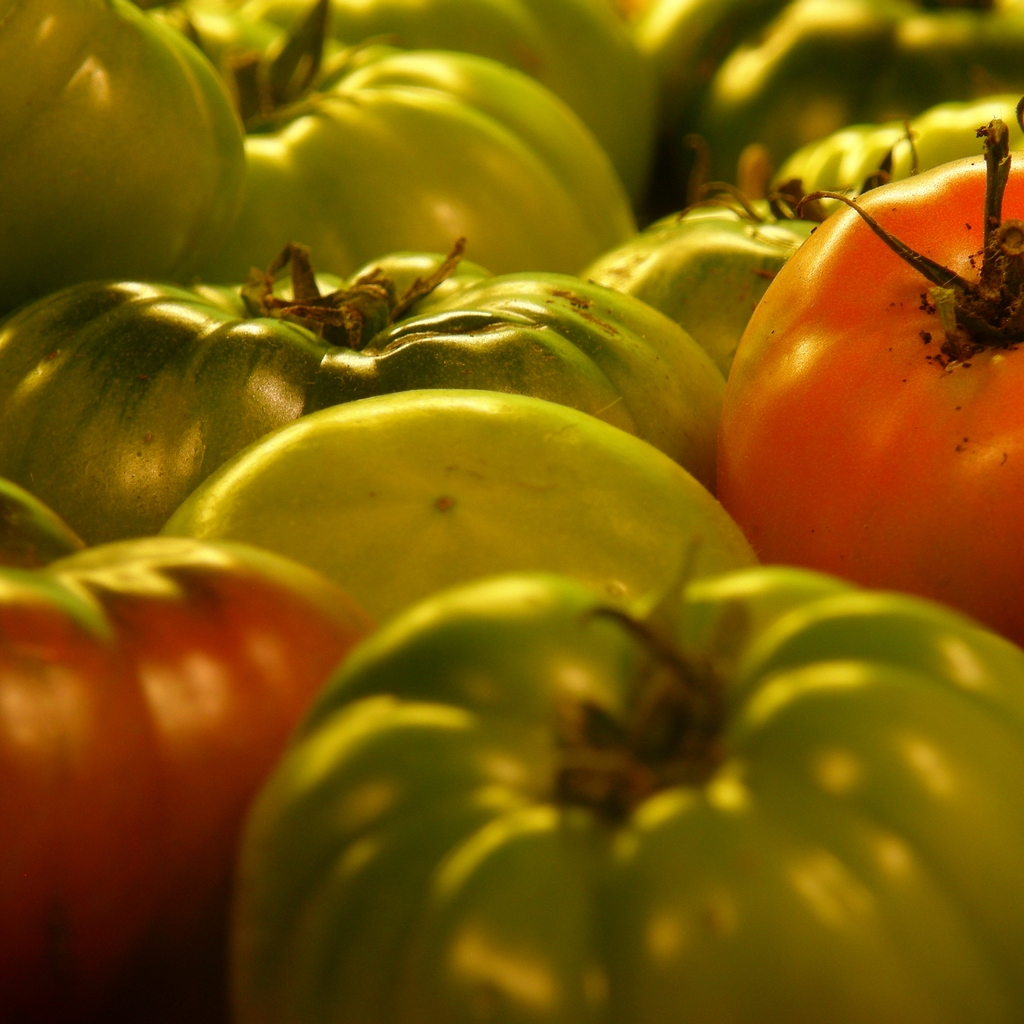Tomato: (0, 0, 1023, 1022), (736, 169, 1019, 593)
